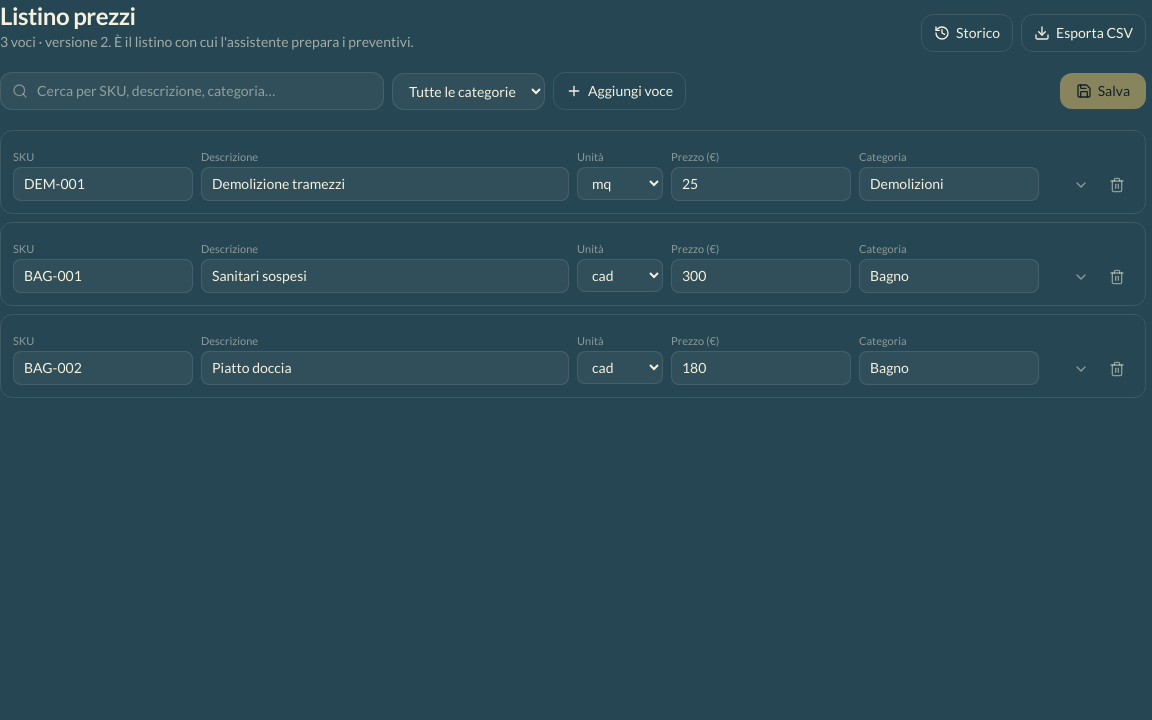
Test case: PriceBookEditor › shows the rule that stops removing a SKU the AI recipes use
Step 1. Replace the text in the number field with test id "pb-price-0" with "30" → [761, 184], box [671,167,851,201]
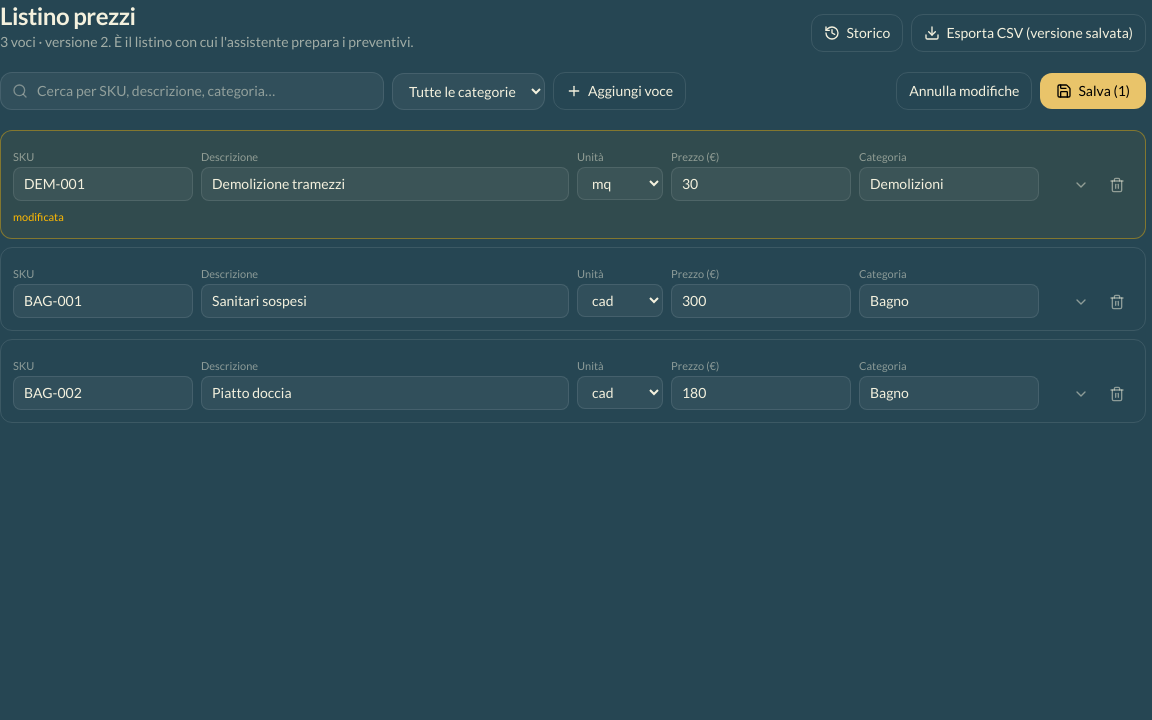
Step 2. Click the button with test id "pb-save" → [1093, 91], box [1040,73,1146,109]
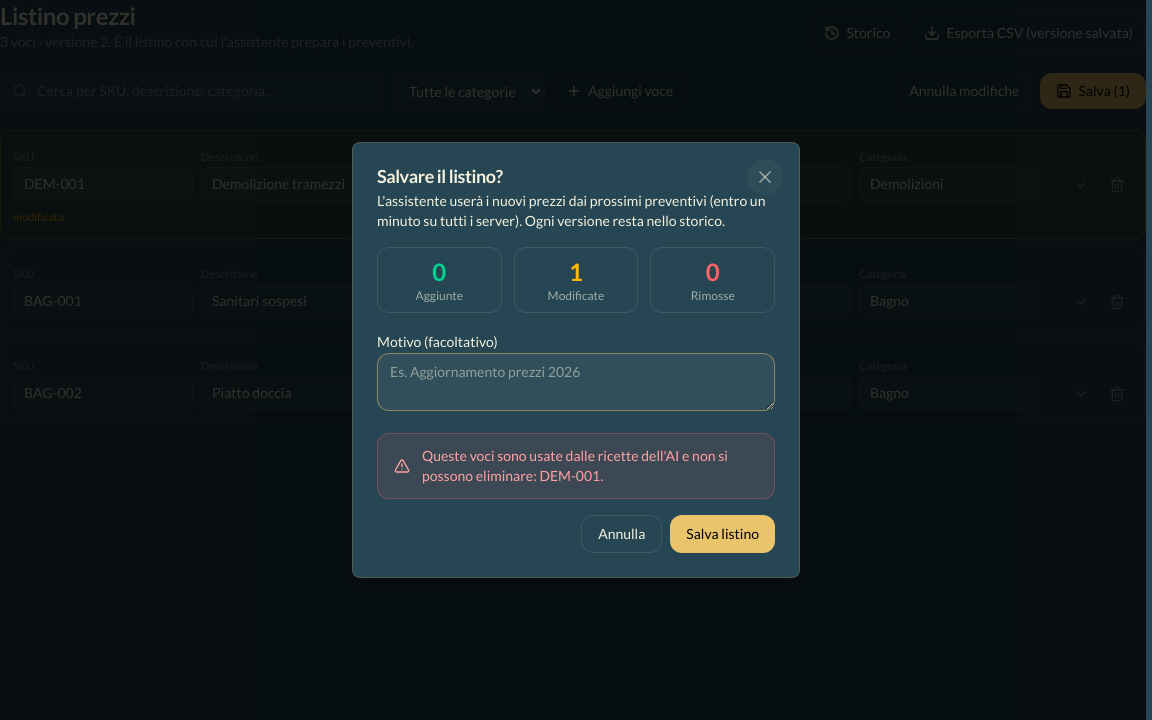
Expected: the message with test id "error-banner" shows "DEM-001", [422,447,728,484]
